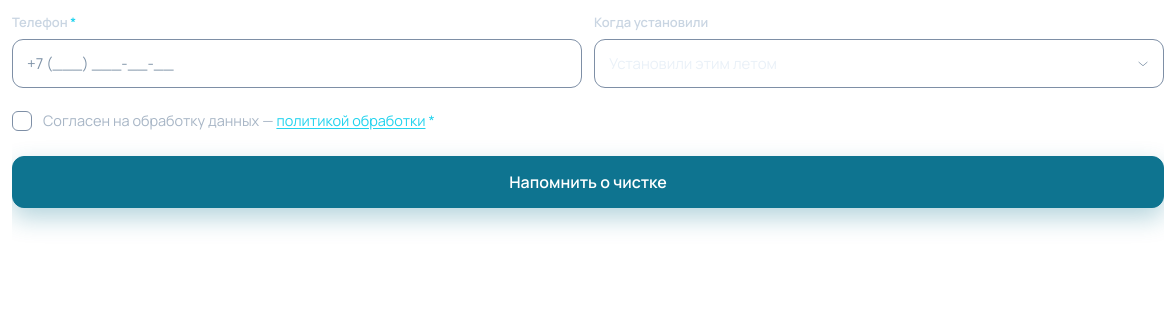
Test case: ReminderForm › 🔴 ошибка сервера объясняет, что делать, и оставляет телефон запасным путём
In the field labelled "Телефон *": (297, 64) x1=12 y1=39 x2=582 y2=88, type "+79051234567"
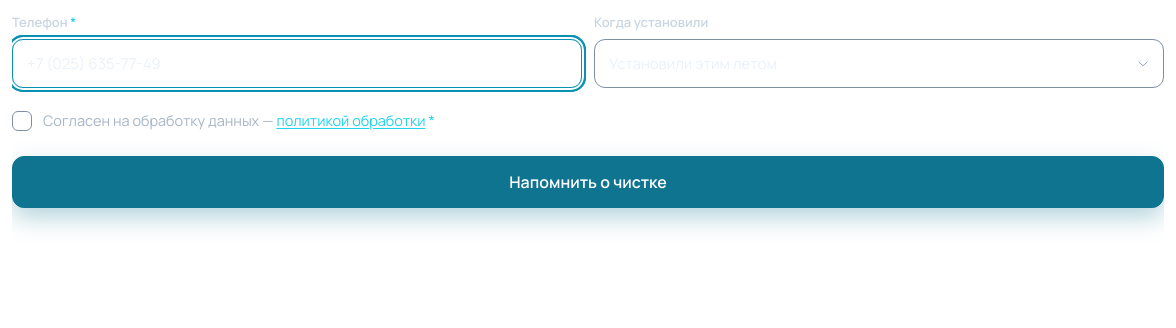
Click the checkbox: (22, 121) x1=12 y1=111 x2=32 y2=131
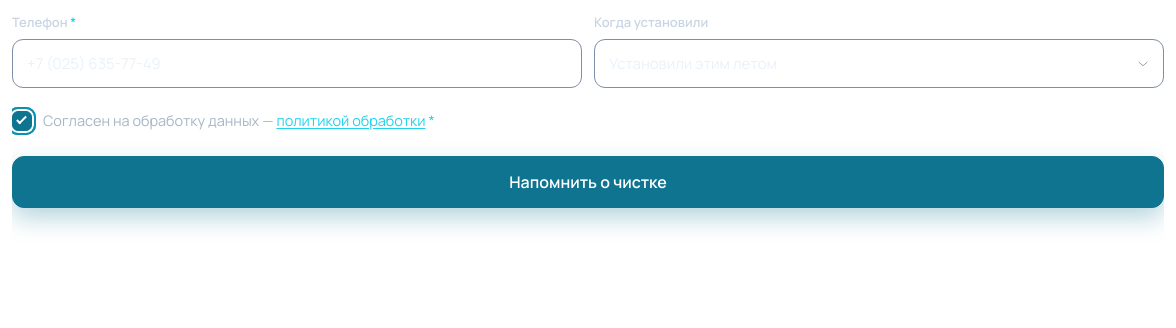
Click the button "Напомнить о чистке": (588, 182) x1=12 y1=156 x2=1164 y2=208
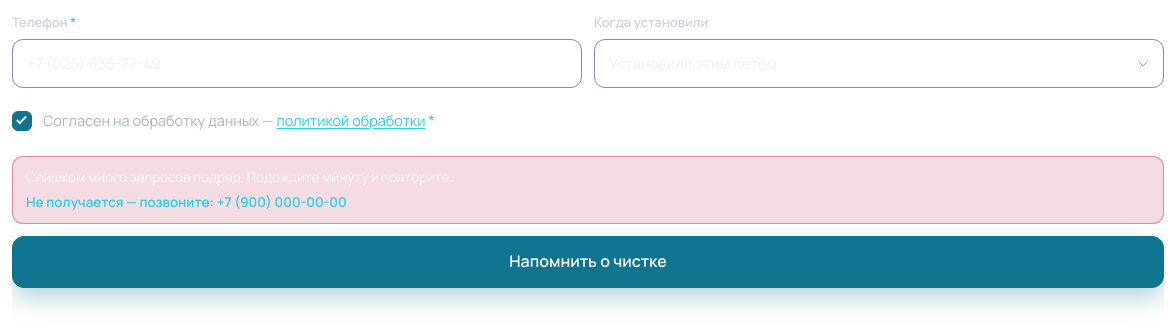
Expected: the text "Не получается — позвоните: +7 (900) 000-00-00" is shown, x1=26 y1=193 x2=347 y2=211
